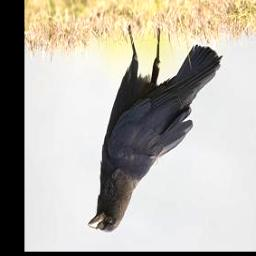Crow: (86, 25, 222, 235)
